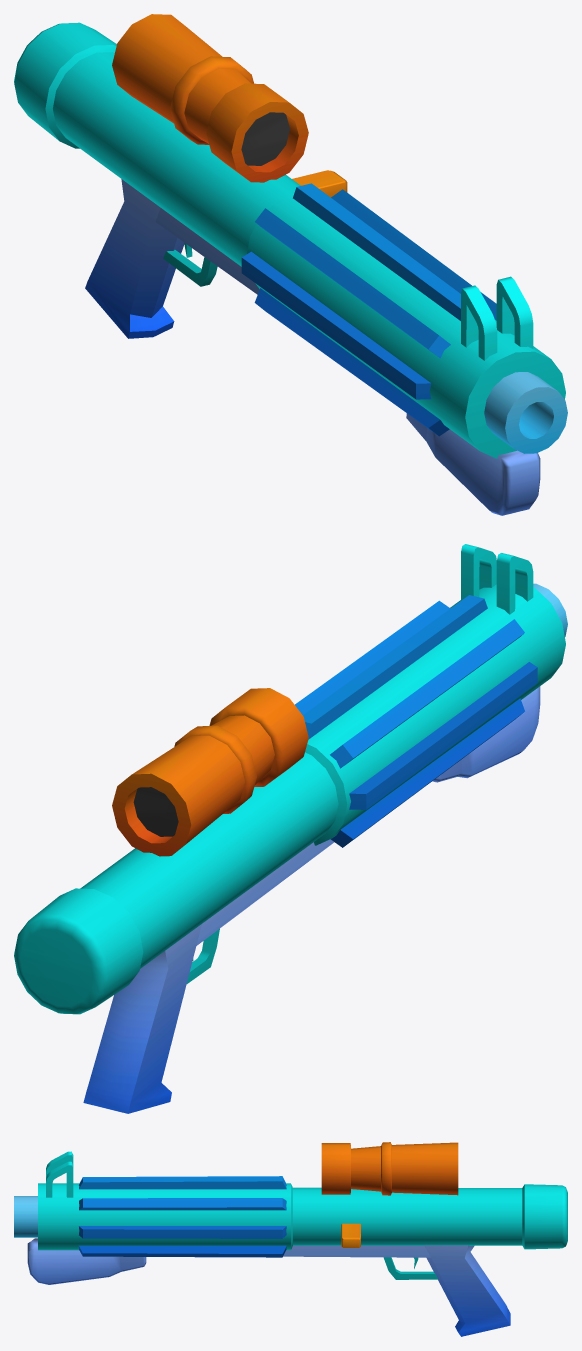
The model's file is LV7_Weapon.fbx.
3 renders of one model, top to bottom at view 1: azimuth 30°, elevation 25°; view 2: azimuth 150°, elevation 25°; view 3: azimuth 270°, elevation 25°, orthographic. The views are drawn at different scales.
Visible parts, largest first — view 1: LV7_Weapon; view 2: LV7_Weapon; view 3: LV7_Weapon.
Boxes of the visible parts, x1,y1,x2,y2 form: LV7_Weapon: (14, 14, 567, 515); LV7_Weapon: (14, 544, 567, 1113); LV7_Weapon: (14, 1142, 567, 1336).
Bounding box in the file's own units: 15.82 × 30.9 × 83.15.
1 material, 1 textured.
